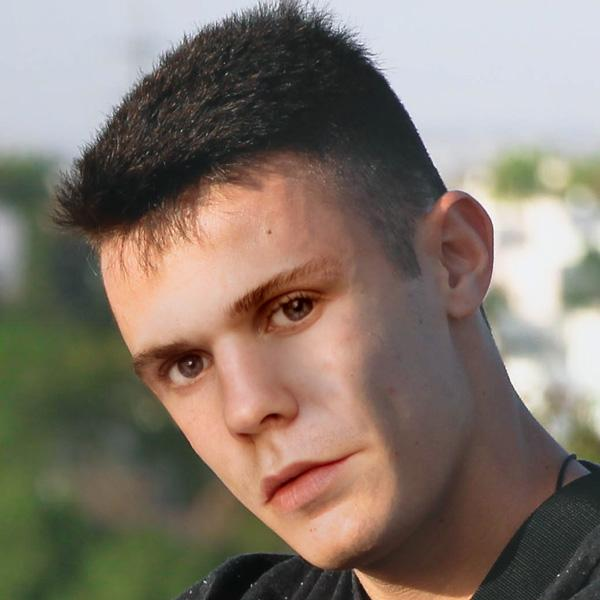Eyes: (256, 281, 332, 341), (155, 342, 221, 398)
